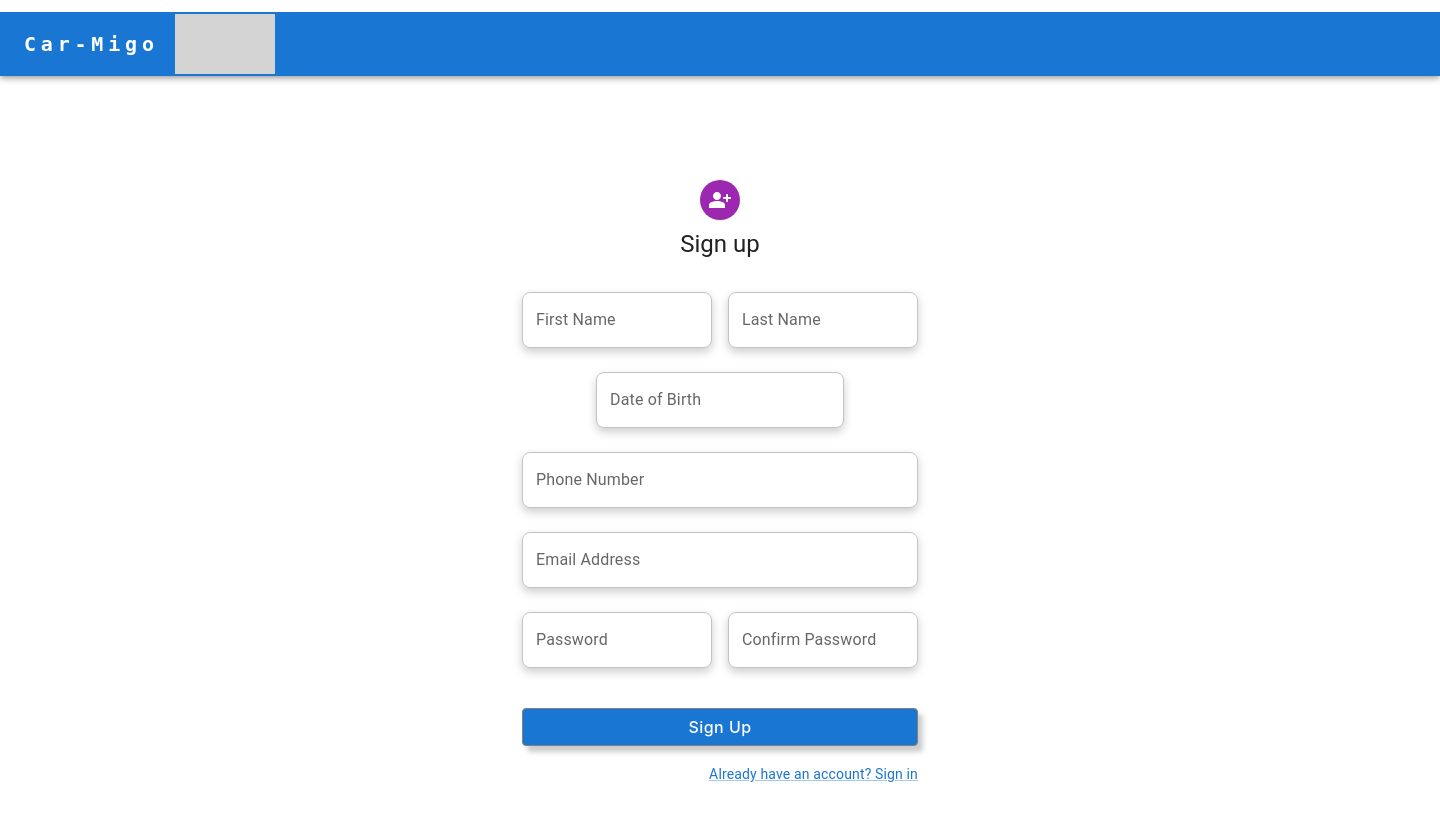
Test case: Sign Up Unit Tests › button clicked with some missing data fails validation
The width and height of the screenshot is (1440, 822).
Click the button with test id "submit-button" at (720, 727), box x1=522 y1=708 x2=918 y2=746
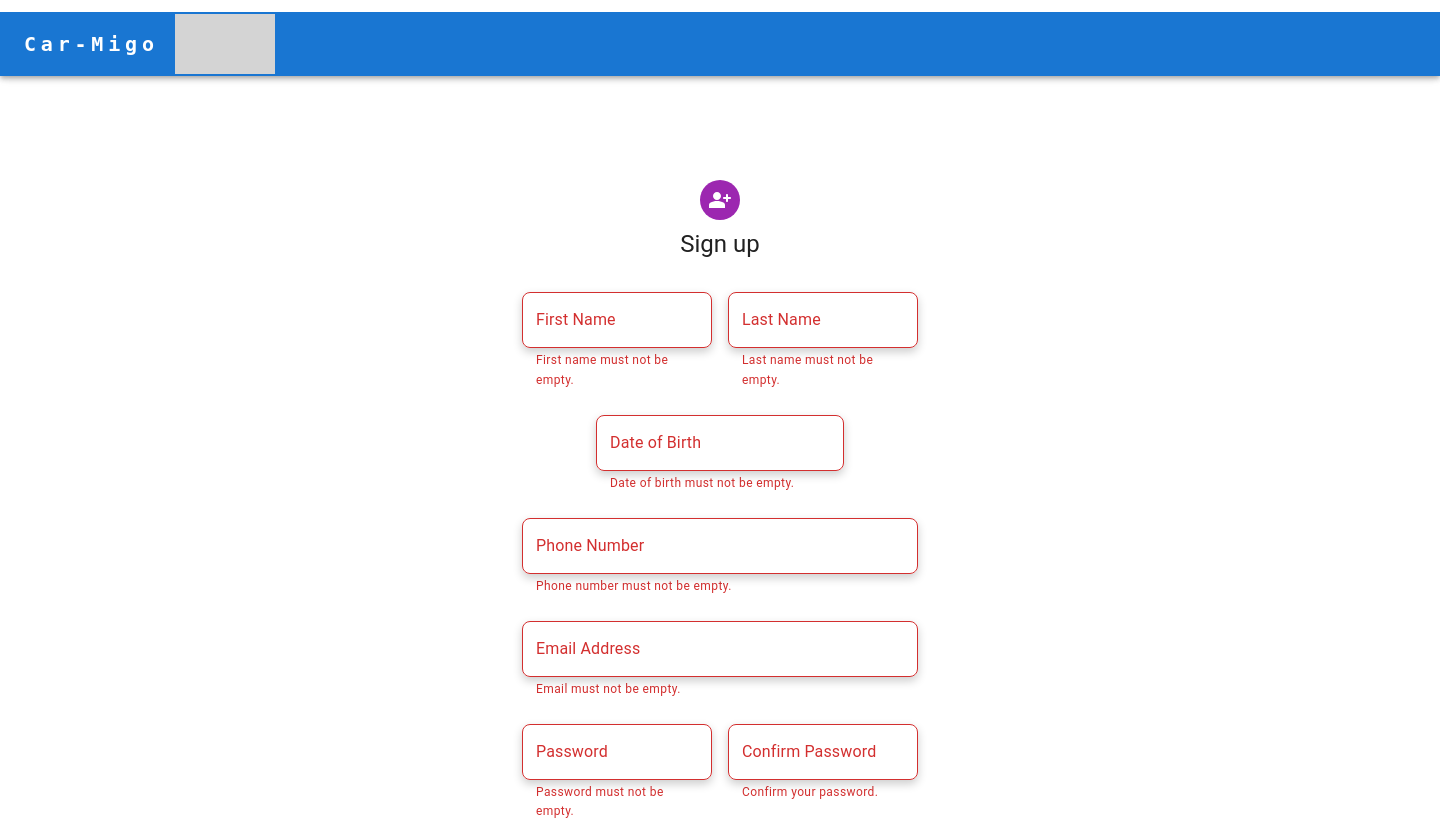
Expected: the text "First name must not be empty." is shown, x1=536 y1=353 x2=668 y2=387
Expected: the text "Last name must not be empty." is shown, x1=742 y1=353 x2=873 y2=387
Expected: the text "Phone number must not be empty." is shown, x1=536 y1=579 x2=732 y2=593
